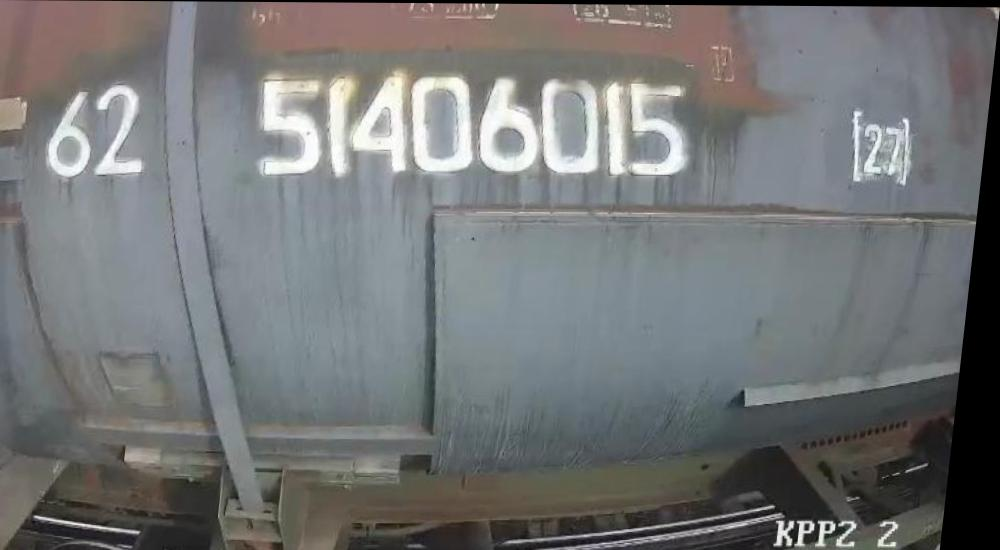Wagon-number: (246, 68, 704, 183)
